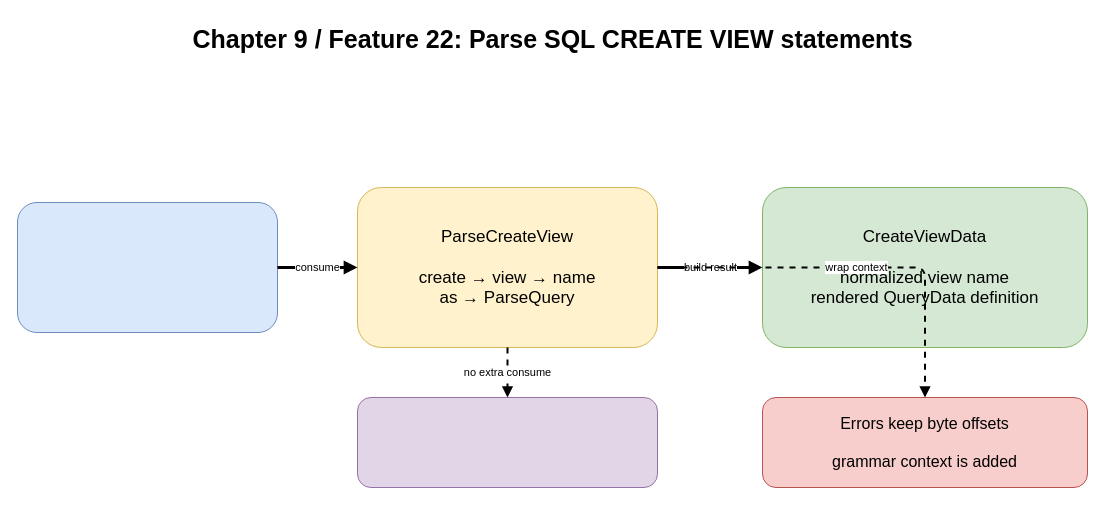
This 1105x505 diagram has some shape labels left out. Each missing label, with the centre of its shape:
"Following token stays available caller continues parsing" goes at point 507,442.
"SQL input CREATE VIEW name AS SELECT ..." goes at point 147,267.
